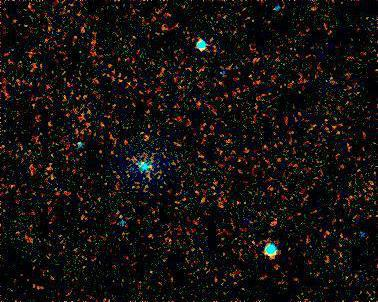star: (303, 0, 333, 24)
